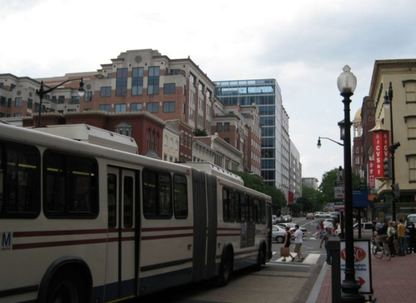bus: (0, 117, 273, 302)
car: (335, 222, 374, 242), (286, 224, 309, 238), (272, 224, 288, 243), (406, 215, 416, 229), (316, 211, 331, 218), (307, 212, 316, 219)
